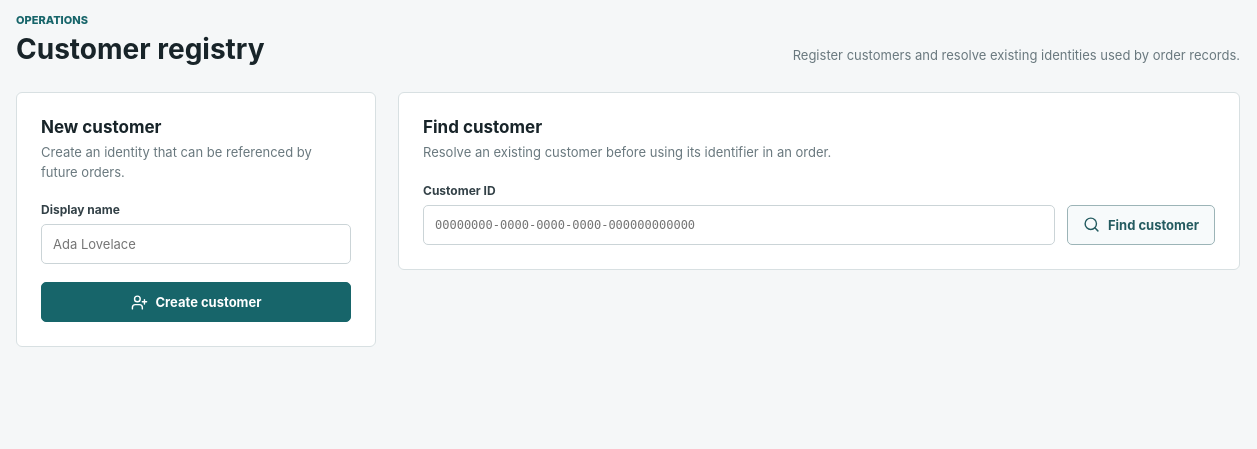
customers page › creates a customer and renders its identifier
Type "  Ada Lovelace  " into the field named "displayName" at point(196, 244), box [41, 224, 351, 264]
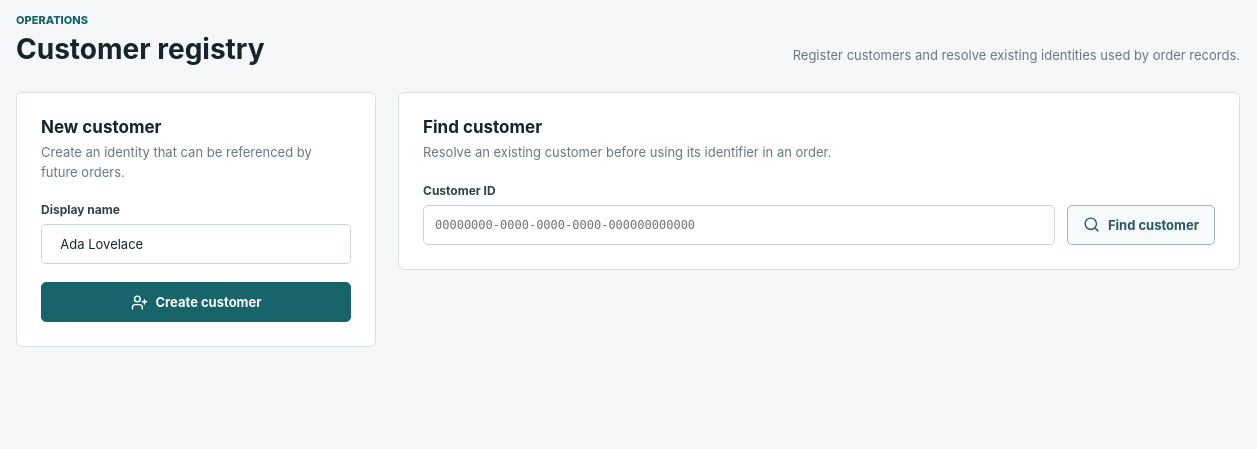
Submit the form with class "customer-form__body", box [41, 202, 351, 322]
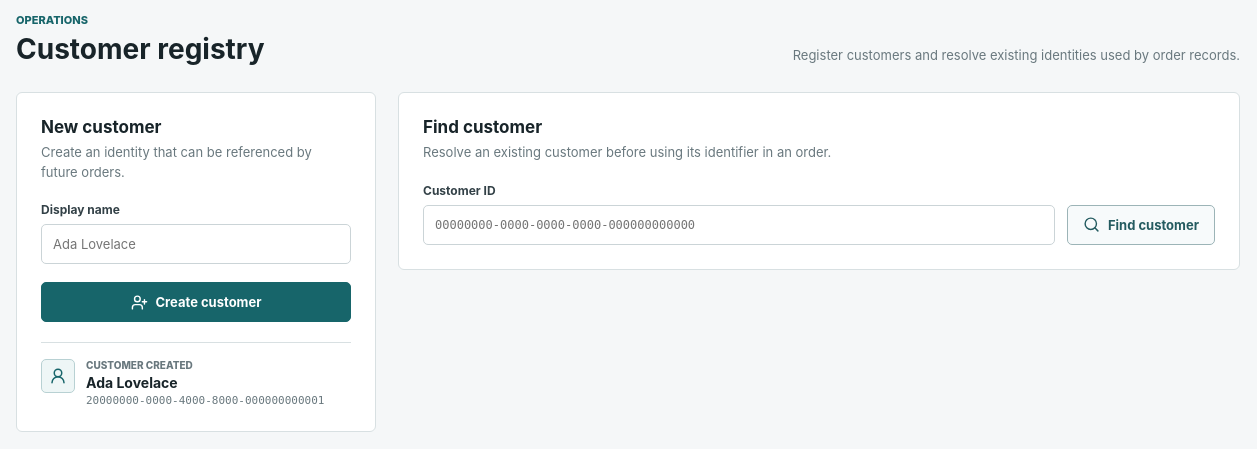
Check: the text "Customer created" is shown, box [86, 359, 193, 371]
Check: the text "20000000-0000-4000-8000-000000000001" is shown, box [86, 394, 324, 407]
